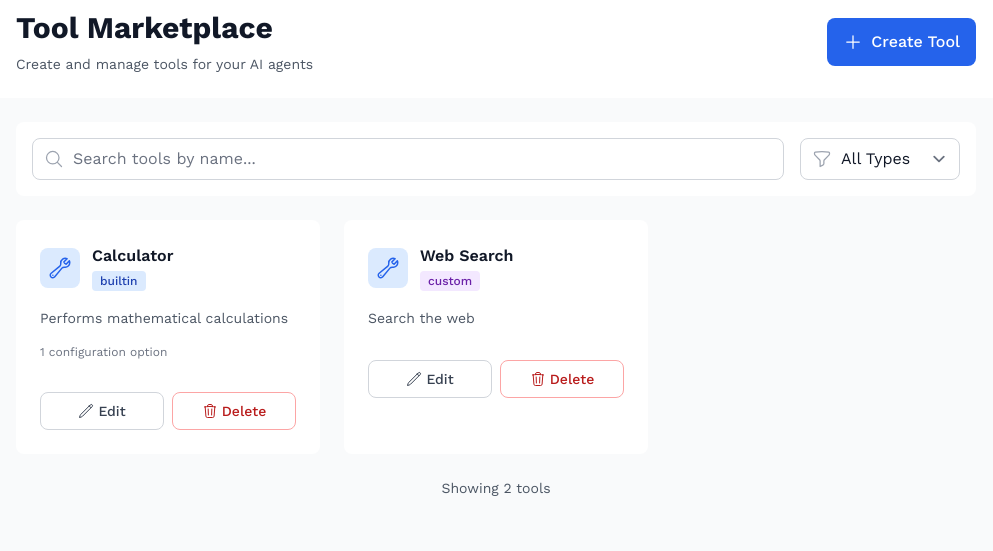
Test case: ToolMarketplace › Clear filters › clears all filters when clear button clicked
This screenshot has width=993, height=551.
Type "test" into the search field with placeholder "Search tools by name..." at (408,159), box 32,138 -> 784,180
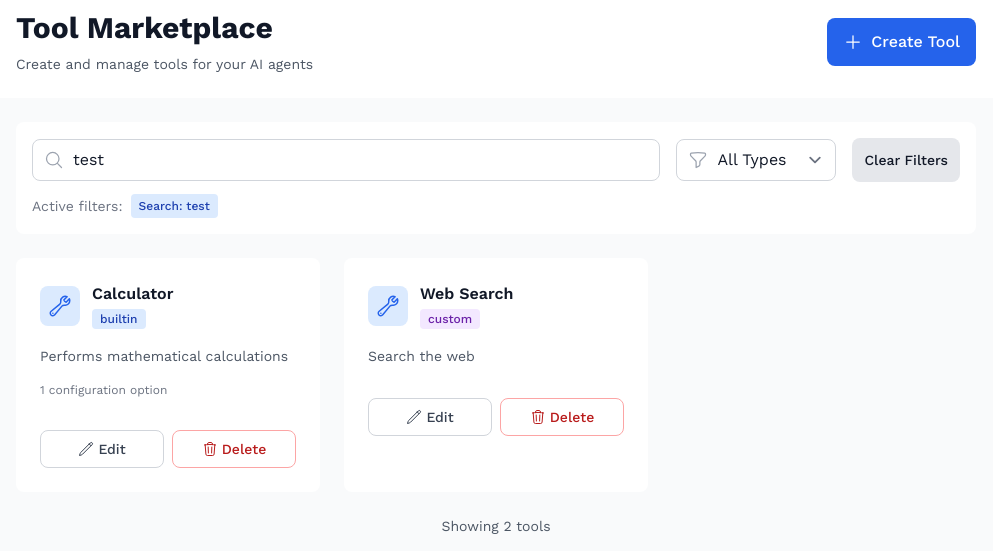
Select "Built-in" in the dropdown at (756,160), box 676,139 -> 836,181
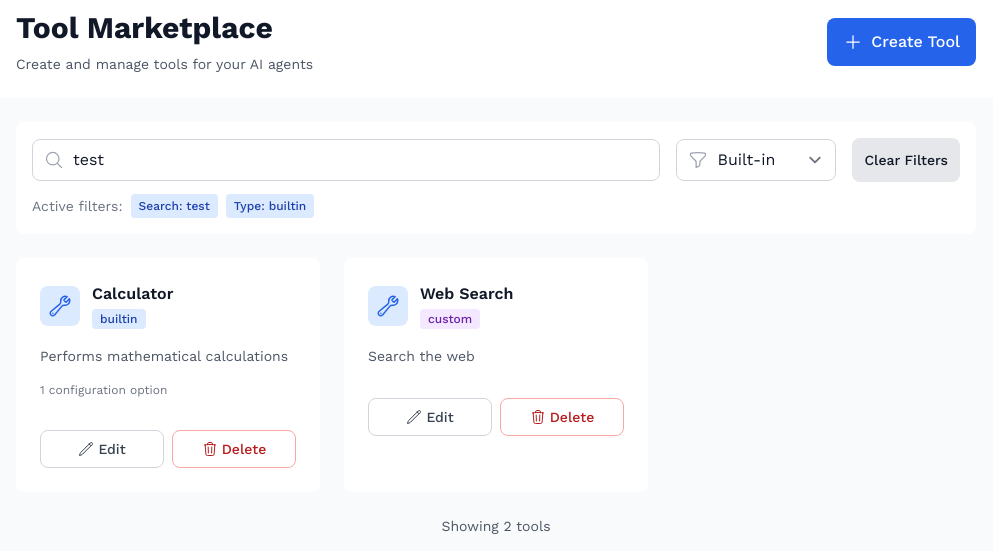
Result: the button "Clear Filters" is shown
Click the button "Clear Filters" at (906,160), box 852,138 -> 960,182
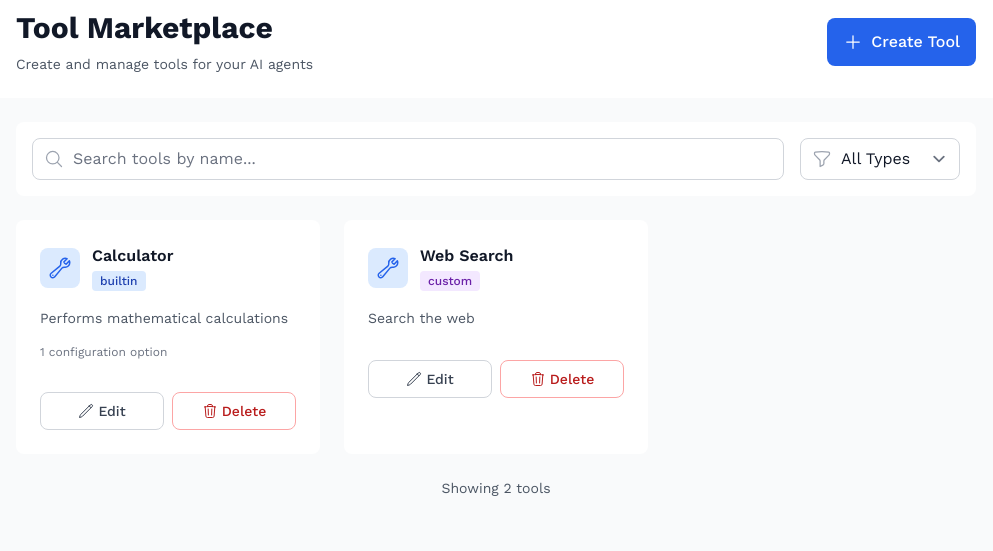
Result: the search field with placeholder "Search tools by name..." is empty at 32,138 -> 784,180
